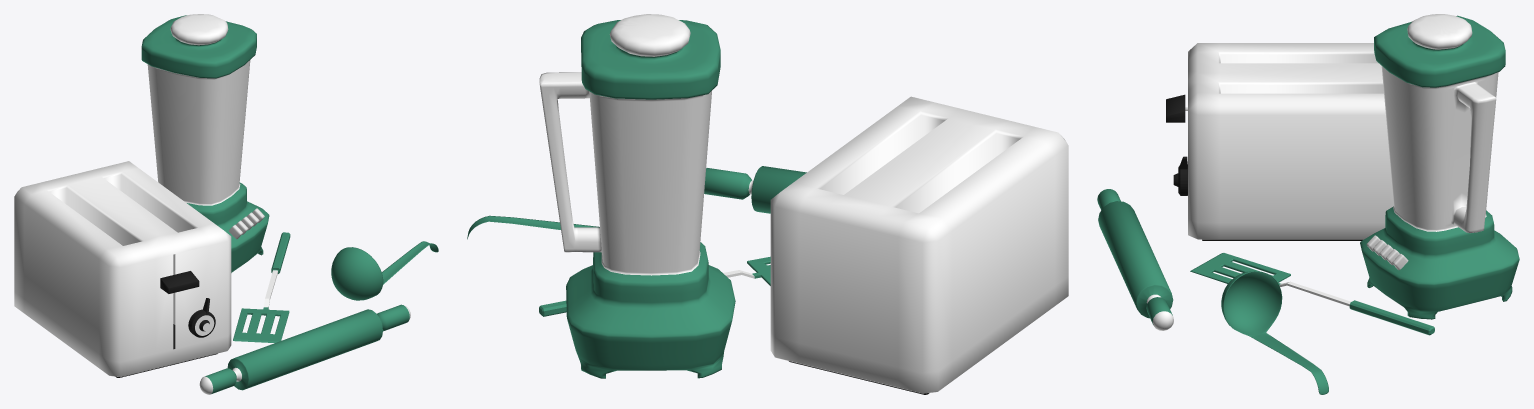
The model's file is kitchen stuff.glb.
3 views of the same model, side by side, from view 1: azimuth 30°, elevation 25°; view 2: azimuth 150°, elevation 25°; view 3: azimuth 270°, elevation 25° (orthographic). The views are drawn at different scales.
Parts seen in each view (by area): view 1: toaster, blender, Cylinder, Sphere, spatu; view 2: toaster, blender, Cylinder, spatu, Sphere; view 3: toaster, blender, Cylinder, Sphere, spatu.
Part boxes in pixels (x1,y1,x2,y2): toaster: (14,161,231,377); blender: (141,14,269,272); Cylinder: (199,304,410,394); Sphere: (331,241,438,300); spatu: (233,232,290,342); toaster: (770,96,1068,394); blender: (539,14,735,378); Cylinder: (704,166,806,213); spatu: (539,256,770,316); Sphere: (467,215,599,239); toaster: (1166,43,1393,240); blender: (1360,14,1519,319); Cylinder: (1097,189,1173,330); Sphere: (1221,271,1328,394); spatu: (1190,253,1434,335).
Bounding box in the file's own units: 4.05 × 2.39 × 3.41.
